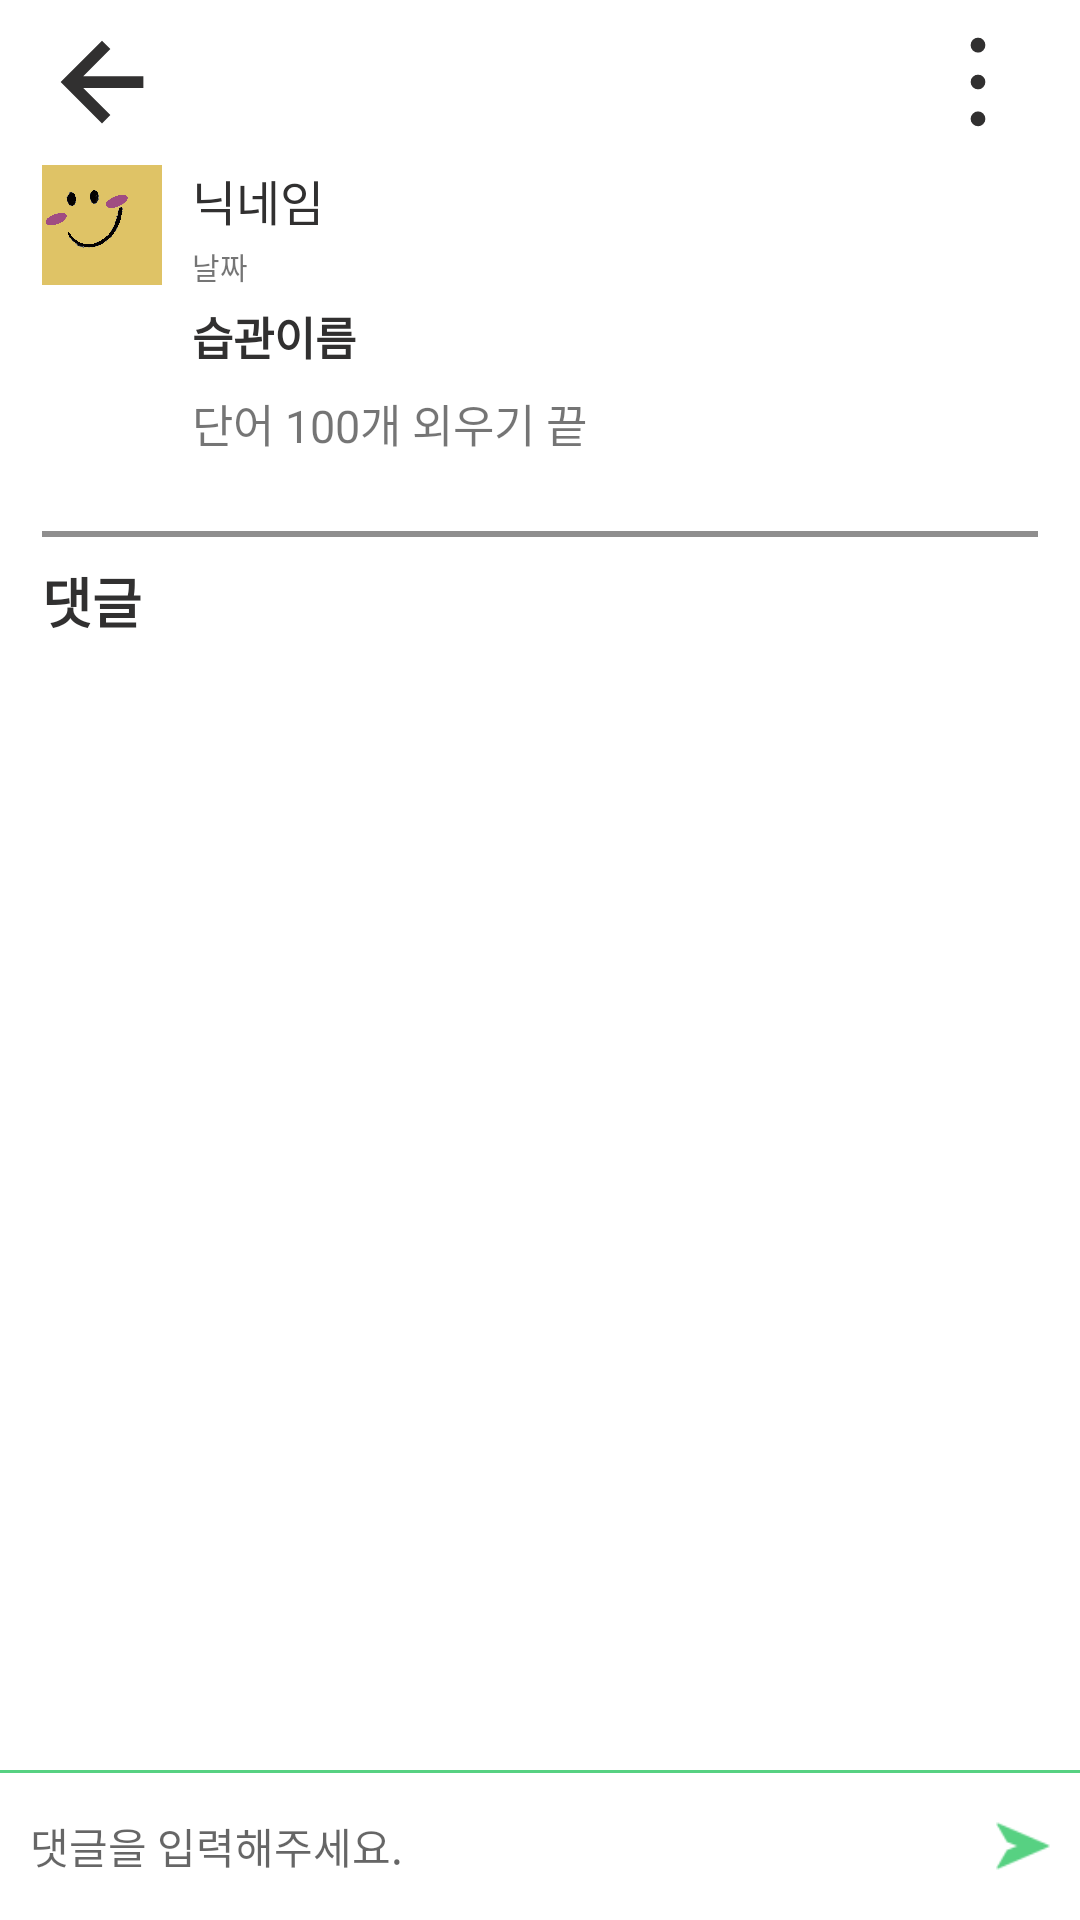

Where icons sit on this 1080px x 1920px app screen, as bbox=[x1, y1, x2, y2]:
arrow back: bbox=[61, 41, 144, 124]
blush: bbox=[42, 165, 162, 285]
more vert: bbox=[970, 37, 986, 127]
send: bbox=[996, 1822, 1050, 1870]
